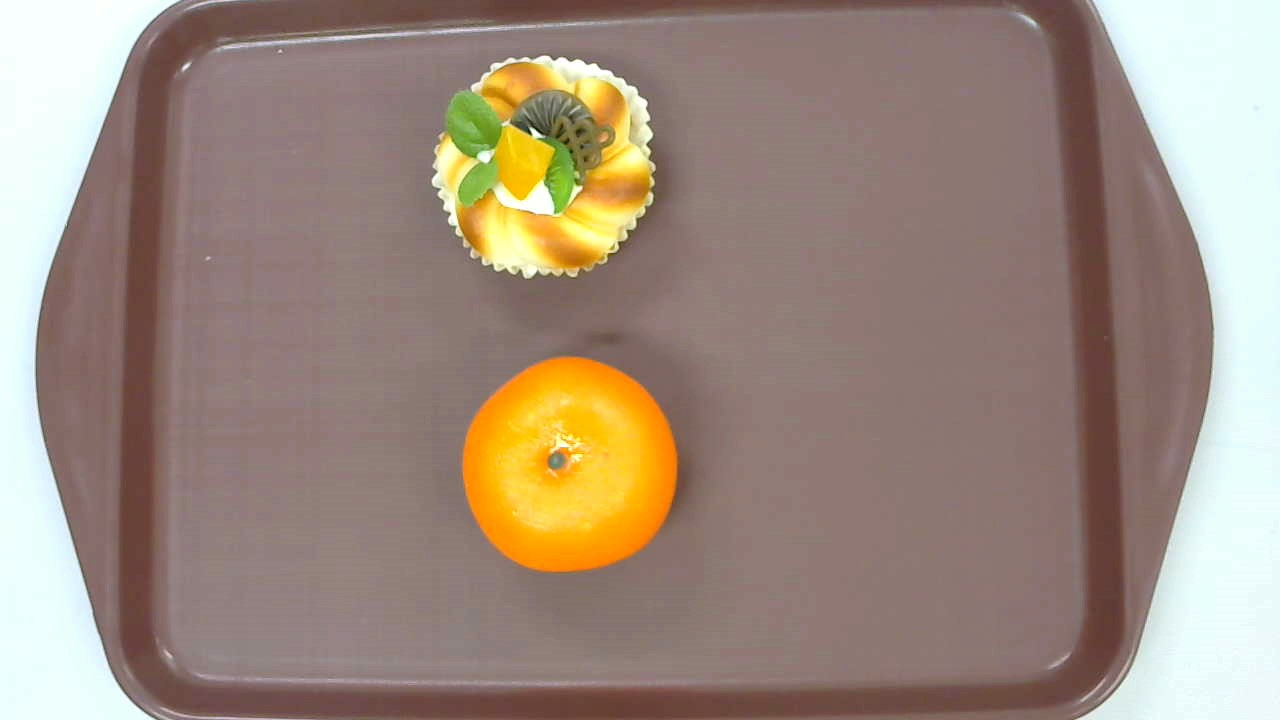fruit tart: (431, 55, 656, 281)
orange: (460, 356, 677, 572)
